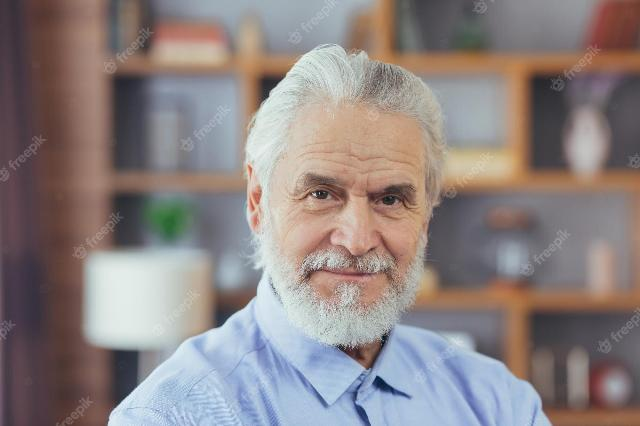crows_feet: (283, 190, 307, 210), (404, 198, 424, 219)
forehead: (330, 148, 362, 172), (298, 144, 326, 168), (365, 150, 389, 178), (392, 148, 416, 176)
gummy_smile: (310, 230, 330, 256), (377, 235, 395, 261)
